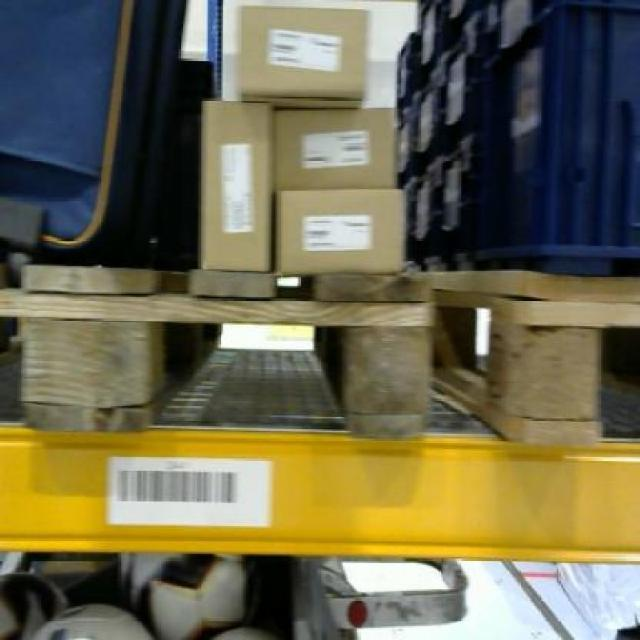box: (235, 0, 371, 97), (200, 95, 272, 271), (270, 186, 406, 274), (275, 109, 400, 188)
